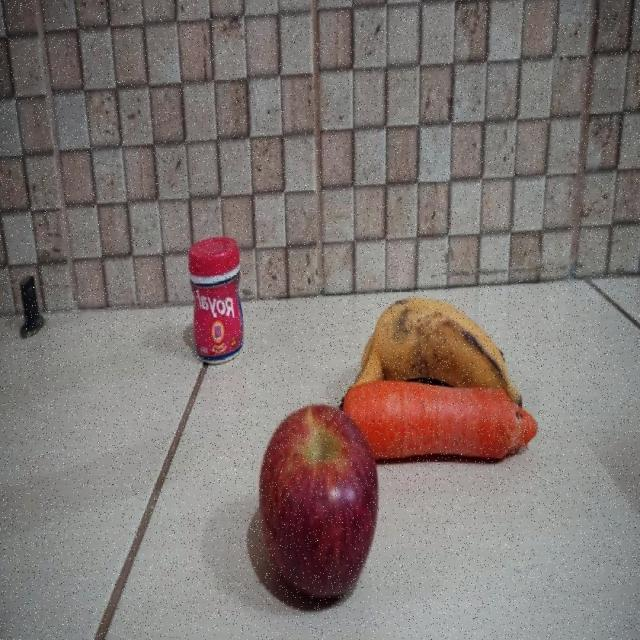Apple: (257, 402, 378, 597)
Banana: (351, 300, 524, 377)
Carrot: (377, 380, 536, 460)
Yeast: (189, 236, 245, 363)
